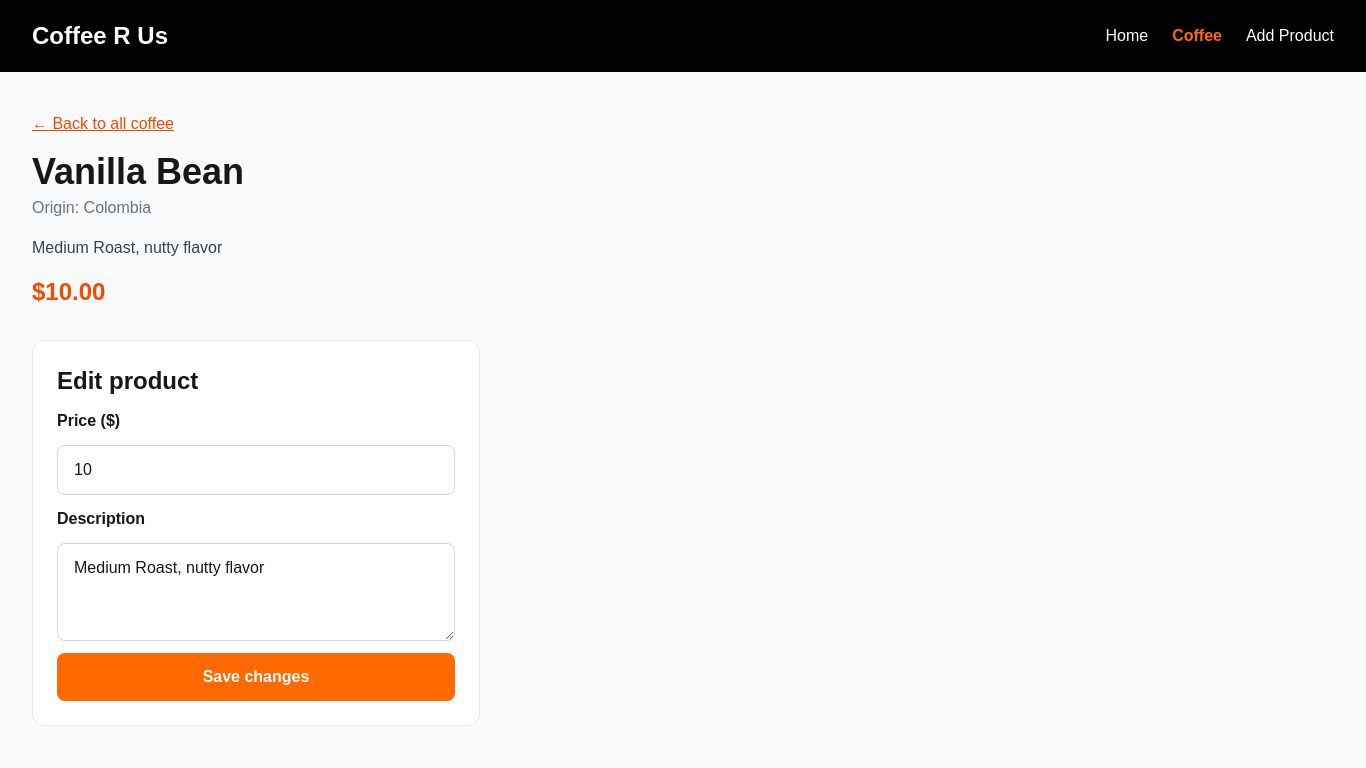
Scenario: the administrator can change a price
Expected: the heading "Vanilla Bean" is shown, left=32, top=151, right=244, bottom=192
Replace the text in the number field labelled "Price ($)" with "15". click: coordinates (256, 470)
box: left=57, top=445, right=455, bottom=495
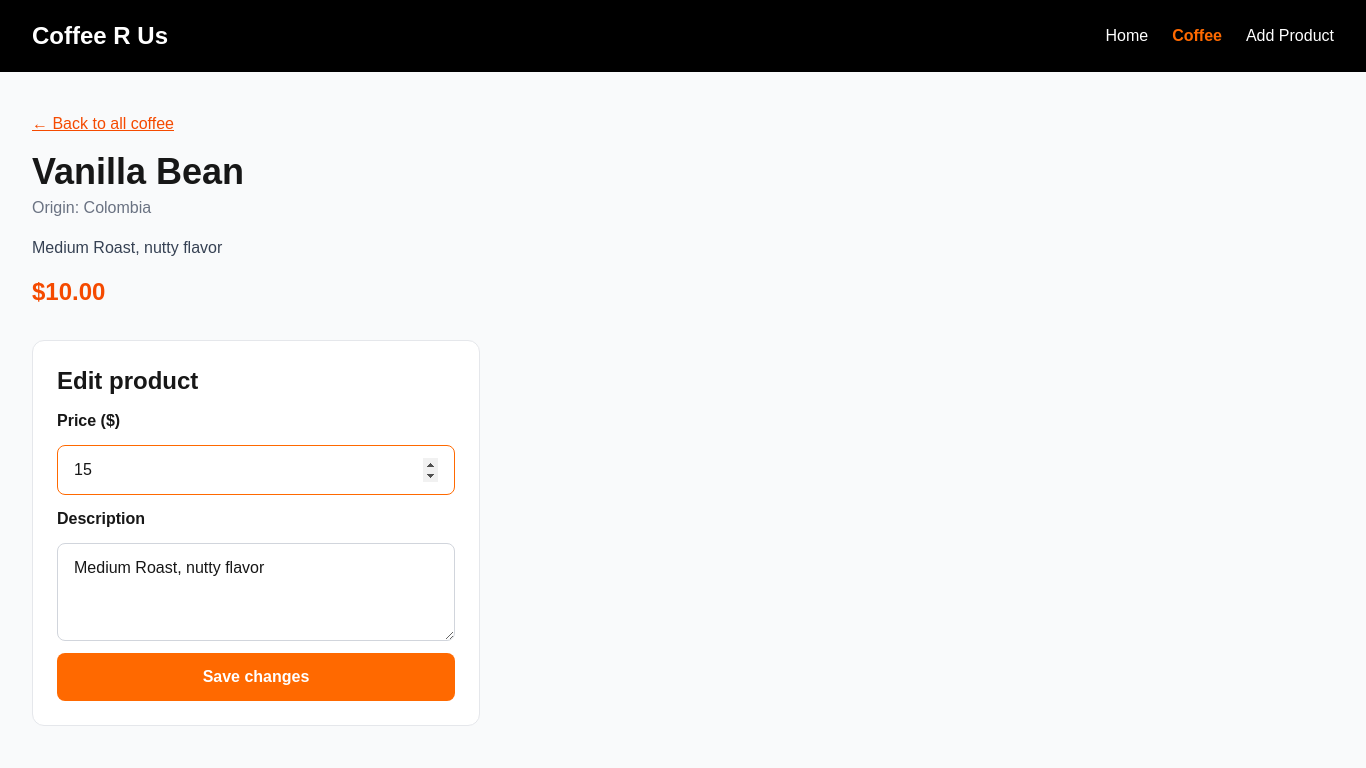
Click the button "Save changes". click: coordinates (256, 677)
box: left=57, top=653, right=455, bottom=701
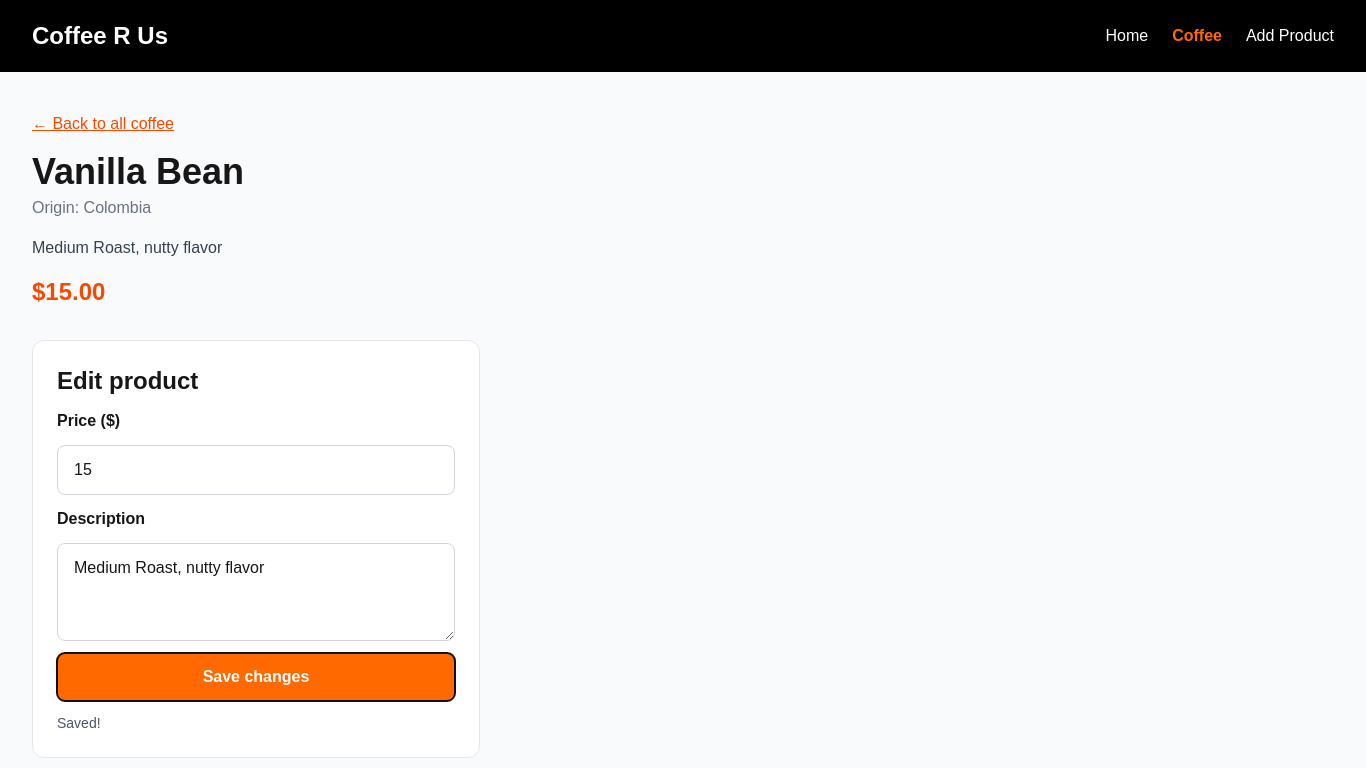
Expected: the text "Saved!" is shown, left=57, top=715, right=101, bottom=731
Expected: the text "$15.00" is shown, left=32, top=278, right=105, bottom=305
